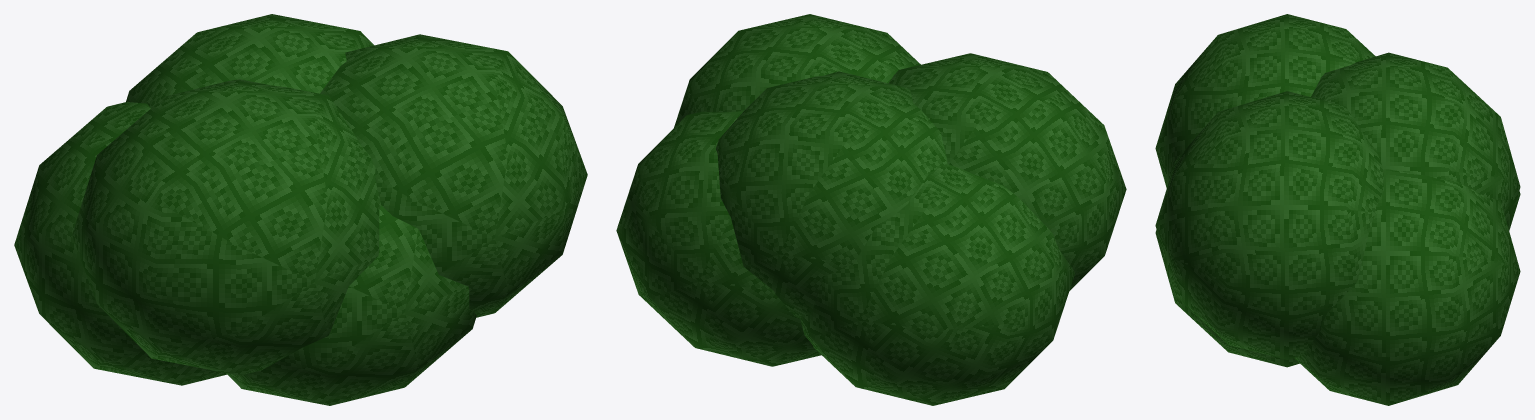
Rendered from bush.glb.
3 views of the same model, side by side, from view 1: azimuth 30°, elevation 25°; view 2: azimuth 150°, elevation 25°; view 3: azimuth 270°, elevation 25° (orthographic). The views are drawn at different scales.
Parts seen in each view (by area): view 1: bush_leaf; view 2: bush_leaf; view 3: bush_leaf.
Boxes of the visible parts, x1,y1,x2,y2 form: bush_leaf: [14, 14, 587, 405]; bush_leaf: [616, 14, 1126, 405]; bush_leaf: [1155, 14, 1520, 405].
Bounding box in the file's own units: 2.33 × 1.55 × 1.8.
Materials: 1 (1 with a texture image).
